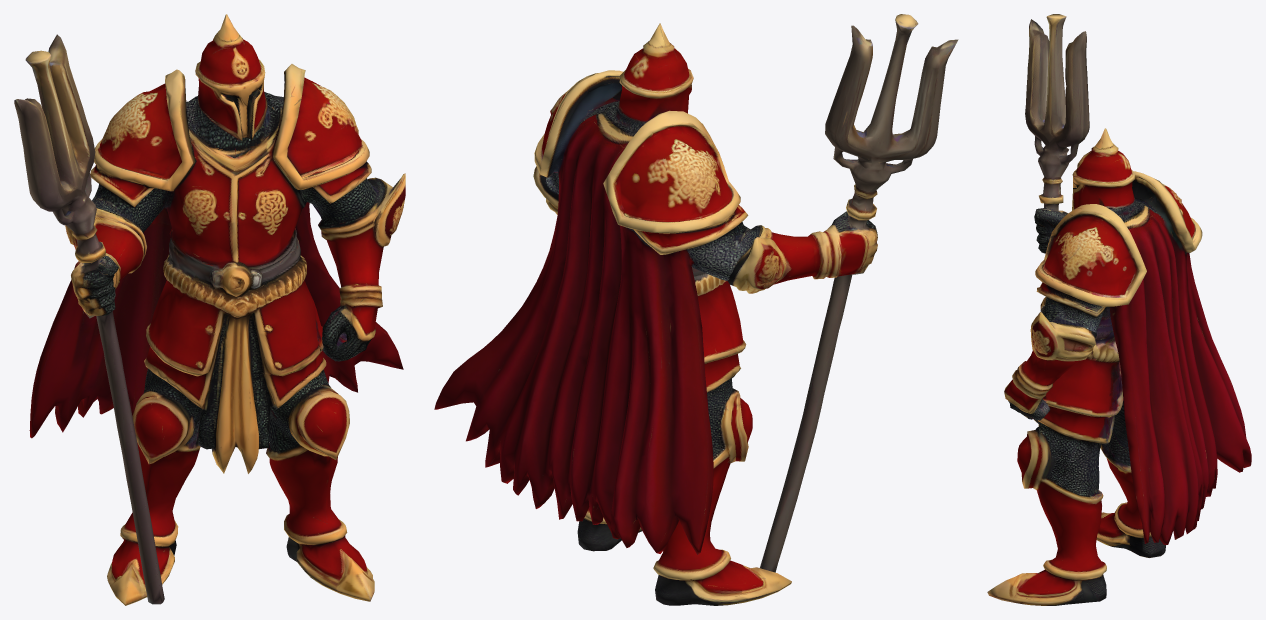
Rendered from heavy.glb.
The picture shows the model from 3 angles, left to right: view 1: azimuth 30°, elevation 25°; view 2: azimuth 150°, elevation 25°; view 3: azimuth 270°, elevation 25°; orthographic projection. The views are drawn at different scales.
Parts seen in each view (by area): view 1: Mesh_0; view 2: Mesh_0; view 3: Mesh_0.
Boxes of the visible parts, <box> form: Mesh_0: <box>14,14,405,605</box>; Mesh_0: <box>434,14,958,605</box>; Mesh_0: <box>987,14,1251,605</box>.
Size of the model in its own units: 1.56 by 1.91 by 0.978.
1 material, 1 textured.
